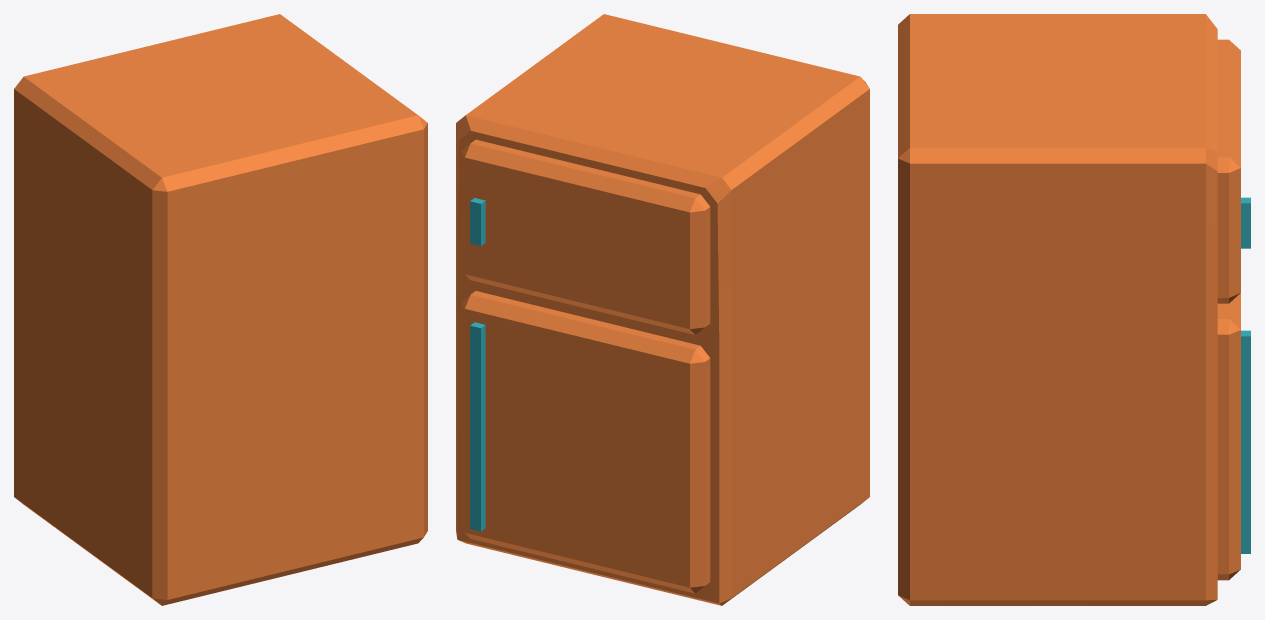
File: Frigorifico.fbx
3 views of the same model, side by side, from view 1: azimuth 30°, elevation 25°; view 2: azimuth 150°, elevation 25°; view 3: azimuth 270°, elevation 25° (orthographic). The views are drawn at different scales.
Parts seen in each view (by area): view 1: Box002; view 2: Box002; view 3: Box002.
Boxes of the visible parts, x1,y1,x2,y2 form: Box002: (14,14,427,605); Box002: (456,14,869,605); Box002: (898,14,1250,605).
Size of the model in its own units: 78.22 by 116 by 81.1.
